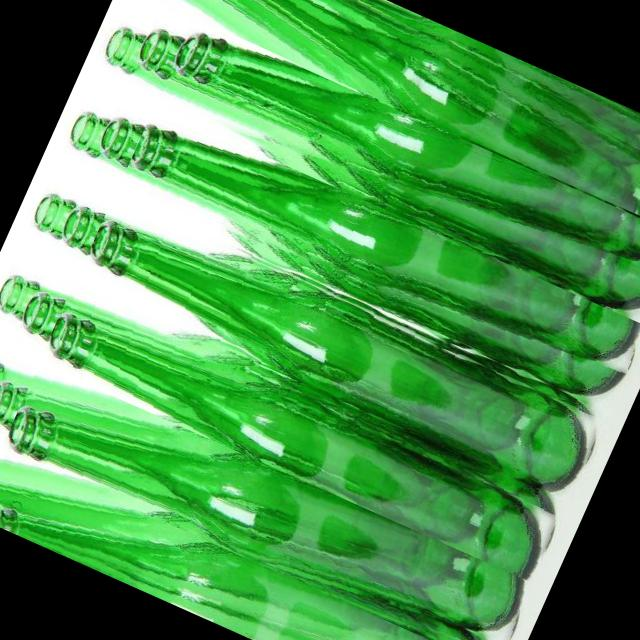Glass: (36, 276, 574, 591), (76, 190, 614, 502), (117, 106, 640, 410), (153, 16, 640, 324), (0, 362, 536, 640), (192, 0, 640, 238), (0, 448, 500, 640)
